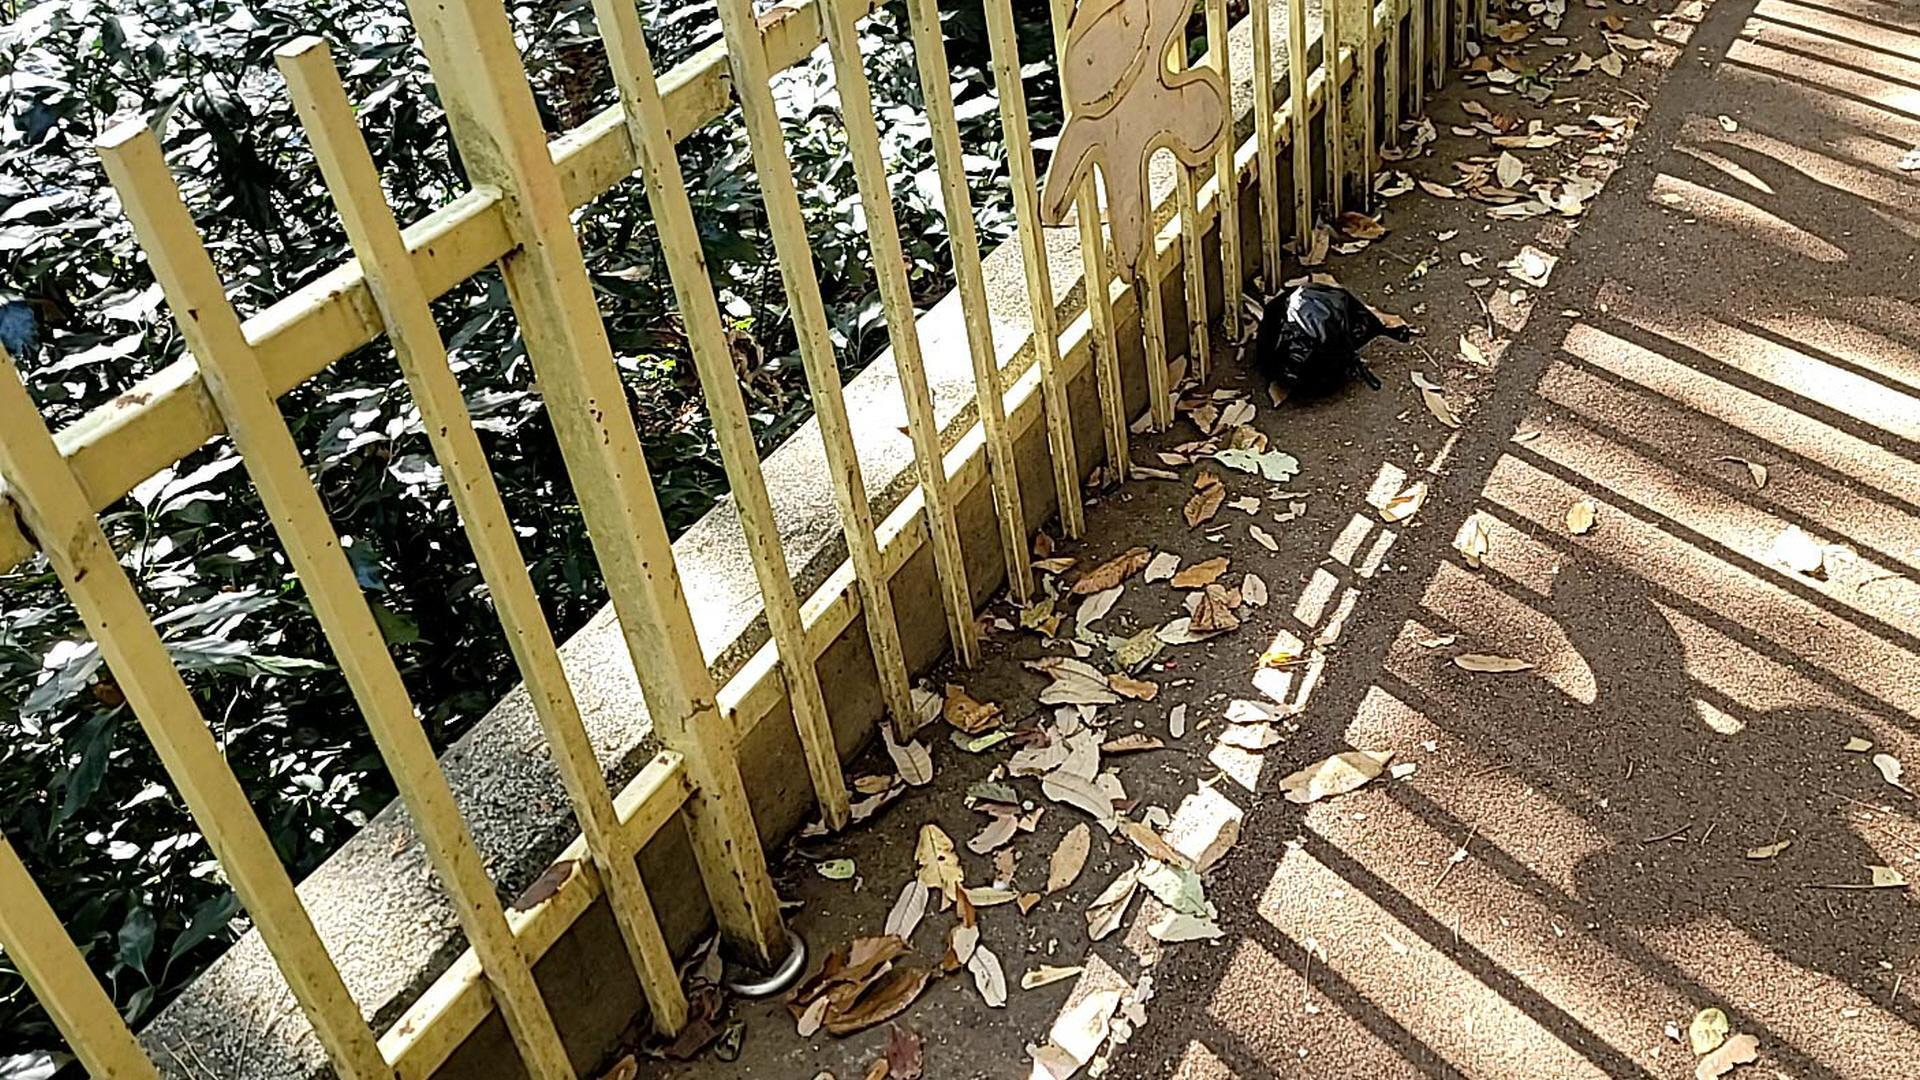black_bag: (1246, 276, 1414, 407)
